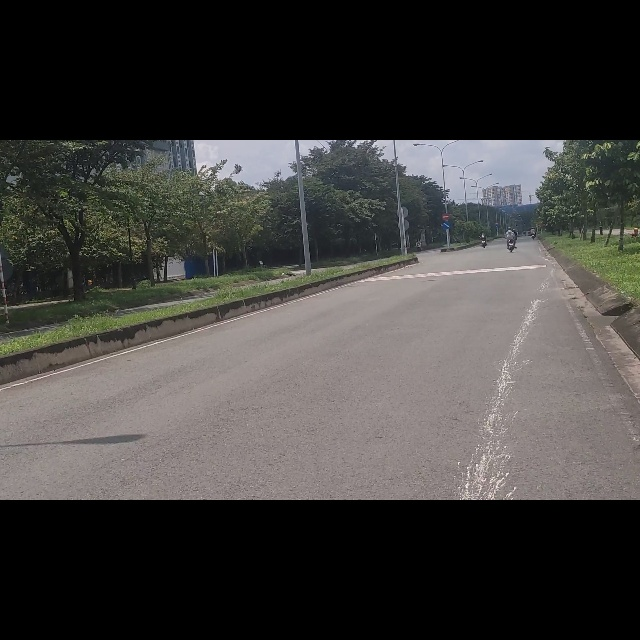bien_cam: (442, 144, 451, 159), (442, 130, 450, 143)
